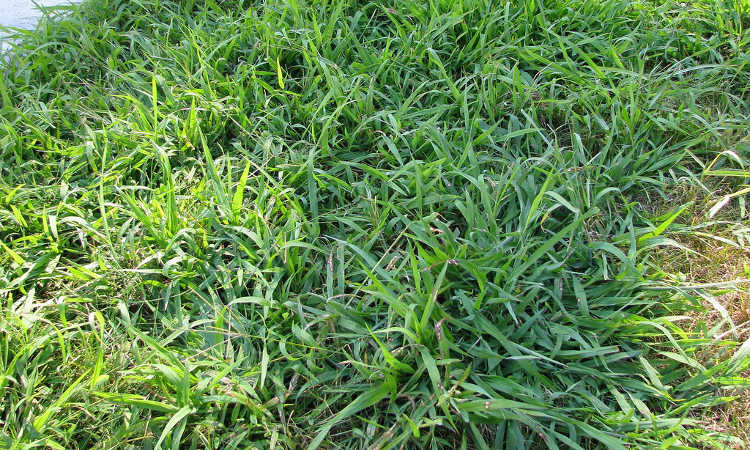crabgrass: (391, 139, 684, 450)
